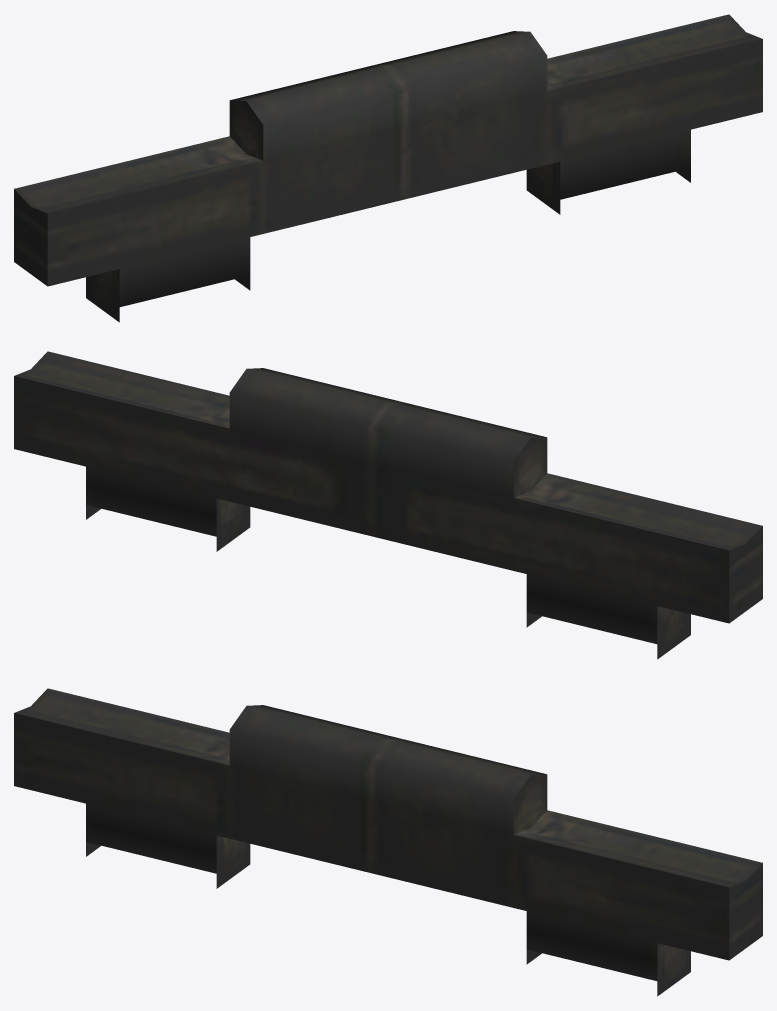
3 renders of one model, top to bottom at view 1: azimuth 30°, elevation 25°; view 2: azimuth 150°, elevation 25°; view 3: azimuth 330°, elevation 25°, orthographic.
Visible parts, largest first — view 1: set_0_group_0; view 2: set_0_group_0; view 3: set_0_group_0.
Part boxes in pixels (x1,y1,x2,y2): set_0_group_0: (14,14,762,322); set_0_group_0: (14,351,762,659); set_0_group_0: (14,688,762,996).
Size of the model in its own units: 0.5507 by 0.1281 by 0.045.
Materials: 1 (1 with a texture image).
